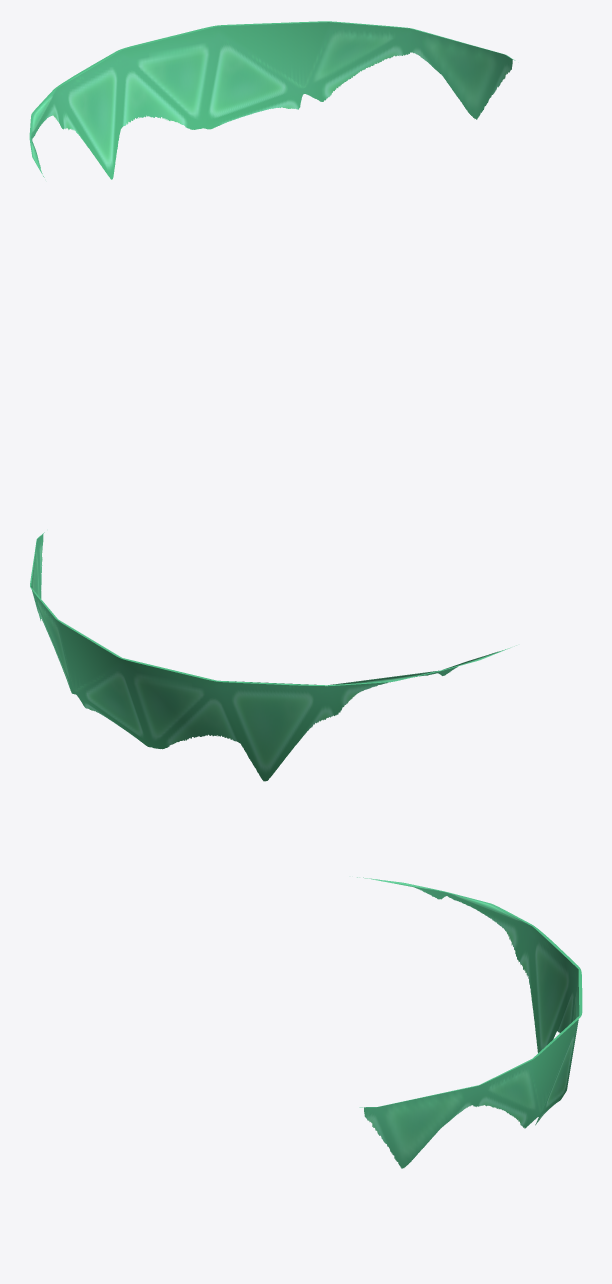
File: shield_idle_fx_mesh.FBX
The picture shows the model from 3 angles, top to bottom: view 1: azimuth 30°, elevation 25°; view 2: azimuth 150°, elevation 25°; view 3: azimuth 270°, elevation 25°; orthographic projection.
Visible parts, largest first — view 1: shield_hit_fx_010; view 2: shield_hit_fx_010; view 3: shield_hit_fx_010.
Boxes of the visible parts, x1=… form: shield_hit_fx_010: x1=29, y1=21, x2=515, y2=179; shield_hit_fx_010: x1=30, y1=532, x2=516, y2=781; shield_hit_fx_010: x1=357, y1=877, x2=582, y2=1168.
Bounding box in the file's own units: 191 × 190 × 79.2.
